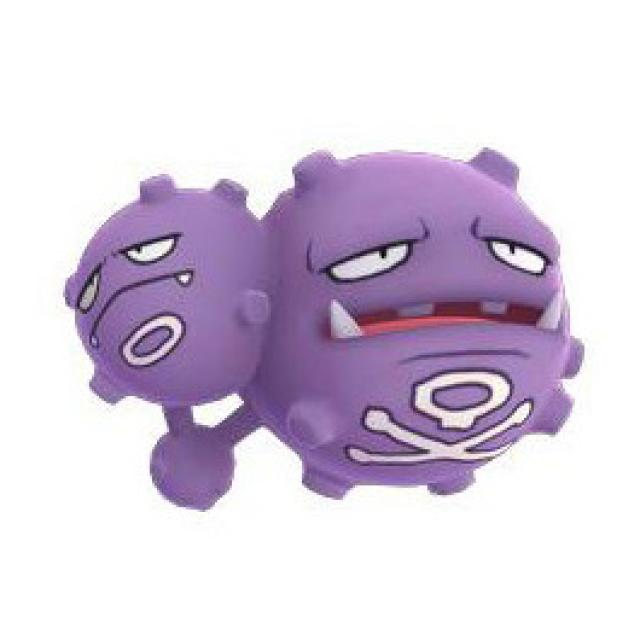Weezing: (59, 148, 584, 512)
